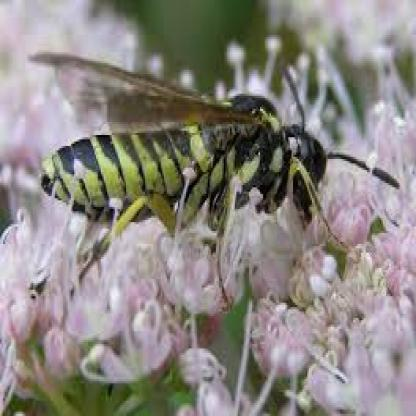sawfly: (19, 42, 403, 284)
